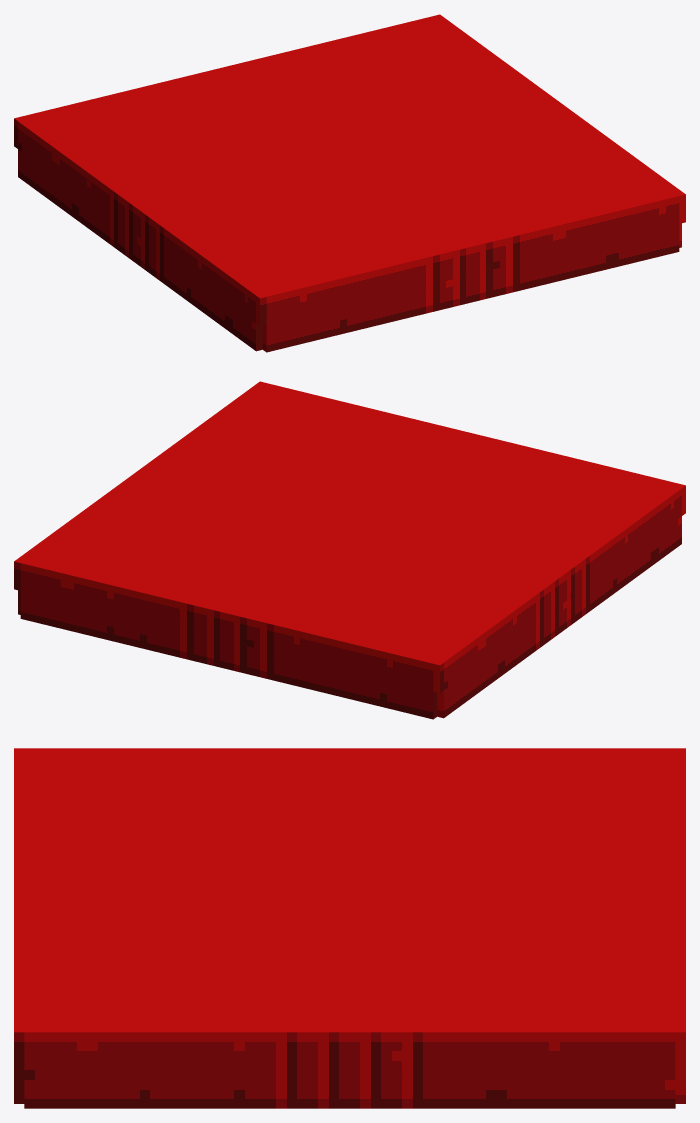
Rendered from lesser_gate_base_lavaao.fezao.glb.
The picture shows the model from 3 angles, top to bottom: view 1: azimuth 30°, elevation 25°; view 2: azimuth 150°, elevation 25°; view 3: azimuth 270°, elevation 25°; orthographic projection. The views are drawn at different scales.
Parts seen in each view (by area): view 1: LESSER_GATE_BASE_LAVAAO; view 2: LESSER_GATE_BASE_LAVAAO; view 3: LESSER_GATE_BASE_LAVAAO.
Boxes of the visible parts, bbox=[...] form: LESSER_GATE_BASE_LAVAAO: bbox=[14, 14, 685, 352]; LESSER_GATE_BASE_LAVAAO: bbox=[14, 381, 685, 719]; LESSER_GATE_BASE_LAVAAO: bbox=[14, 748, 685, 1108].
Size of the model in its own units: 4 by 0.5 by 4.
Materials: 1 (1 with a texture image).
